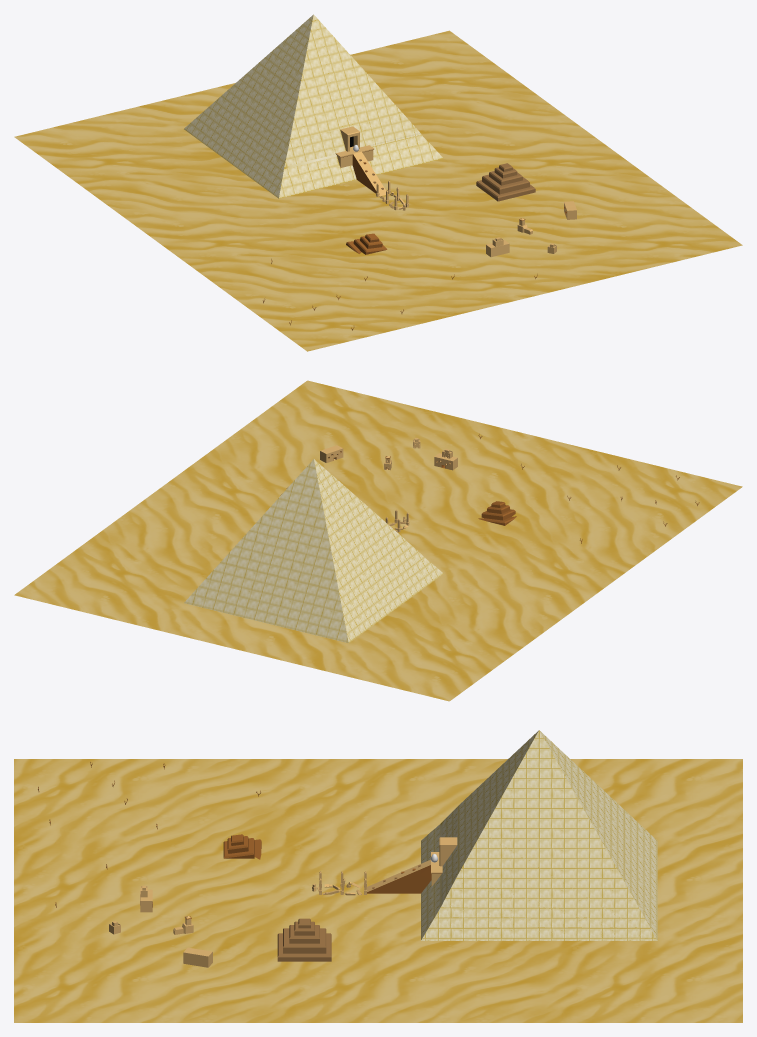
The model's file is tumulo_do_farao.fbx.
3 views of the same model, one above another, from view 1: azimuth 30°, elevation 25°; view 2: azimuth 150°, elevation 25°; view 3: azimuth 270°, elevation 25° (orthographic). The views are drawn at different scales.
Visible parts, largest first — view 1: terreno, Piramide, piramide quadrada.001, piramide quadrada; view 2: terreno, Piramide, piramide quadrada; view 3: terreno, Piramide, piramide quadrada.001, piramide quadrada, casa2.
Part boxes in pixels (x1,y1,x2,y2): terreno: (14,30,742,351); Piramide: (184,14,443,198); piramide quadrada.001: (476,163,535,201); piramide quadrada: (346,233,387,254); terreno: (14,380,742,701); Piramide: (184,459,443,643); piramide quadrada: (478,501,516,525); terreno: (14,759,742,1022); Piramide: (366,730,657,940); piramide quadrada.001: (277,918,331,961); piramide quadrada: (223,834,261,859); casa2: (183,947,212,967).
Bounding box in the file's own units: 50034 × 16002 × 58365.
